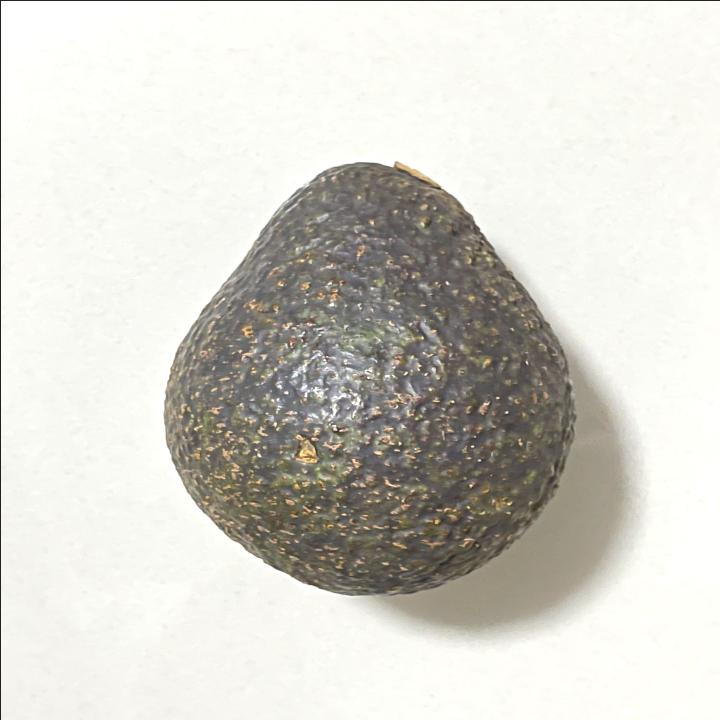Level1: (150, 148, 594, 614)
